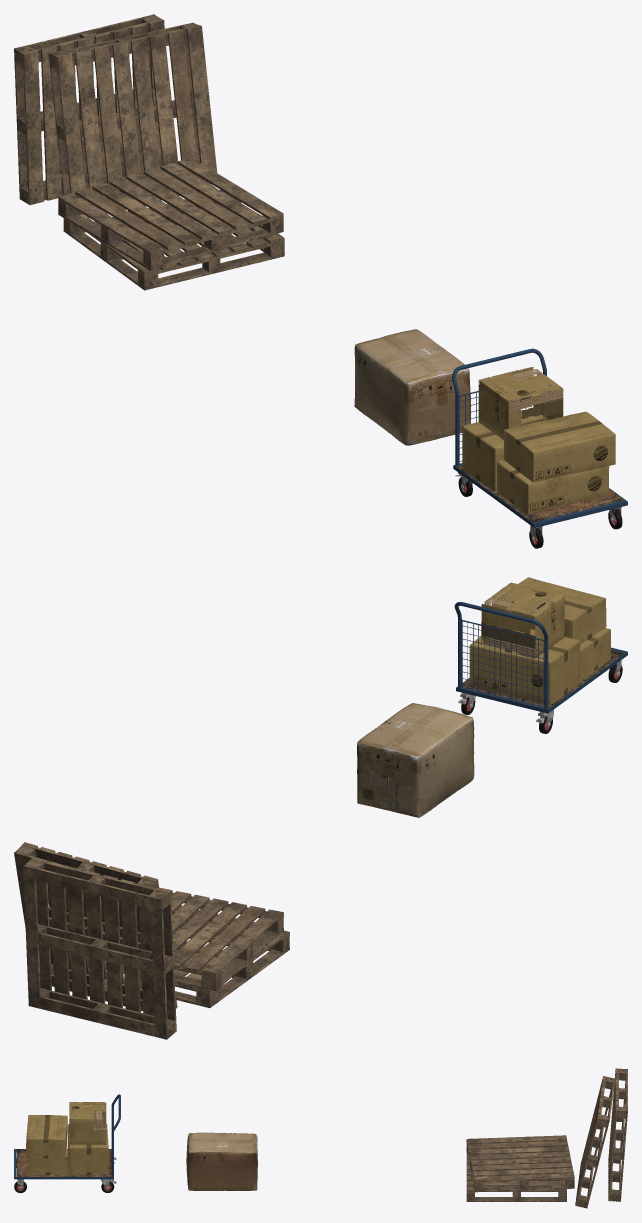
File: sklad.fbx
3 views of the same model, one above another, from view 1: azimuth 30°, elevation 25°; view 2: azimuth 150°, elevation 25°; view 3: azimuth 270°, elevation 25° (orthographic). The views are drawn at different scales.
Parts seen in each view (by area): view 1: WoodenPallet01.006, WoodenPallet01.004, Cardboard box, WoodenPallet01.005, Box_4, WoodenPallet01.007, Box_3, Tool_cart, Box_1, Box_2; view 2: WoodenPallet01.005, Cardboard box, WoodenPallet01.004, Tool_cart, Box_2, Box_3, WoodenPallet01.006, WoodenPallet01.007, Box_4, Box_1; view 3: WoodenPallet01.004, Cardboard box, WoodenPallet01.006, WoodenPallet01.005, Box_4, Tool_cart, Box_3, WoodenPallet01.007, Box_2, Box_1.
Boxes of the visible parts, left/top/right/bottom form: WoodenPallet01.006: left=48, top=22, right=217, bottom=203; WoodenPallet01.004: left=58, top=157, right=283, bottom=270; Cardboard box: left=354, top=329, right=470, bottom=445; WoodenPallet01.005: left=14, top=14, right=164, bottom=204; Box_4: left=503, top=411, right=615, bottom=482; WoodenPallet01.007: left=63, top=179, right=284, bottom=290; Box_3: left=478, top=367, right=563, bottom=440; Tool_cart: left=452, top=348, right=627, bottom=548; Box_1: left=497, top=460, right=609, bottom=514; Box_2: left=462, top=409, right=548, bottom=491; WoodenPallet01.005: left=23, top=857, right=176, bottom=1039; Cardboard box: left=357, top=703, right=474, bottom=817; WoodenPallet01.004: left=88, top=887, right=283, bottom=990; Tool_cart: left=454, top=602, right=627, bottom=733; Box_2: left=469, top=629, right=580, bottom=704; Box_3: left=481, top=582, right=564, bottom=658; WoodenPallet01.006: left=14, top=842, right=177, bottom=1011; WoodenPallet01.007: left=123, top=905, right=289, bottom=1007; Box_4: left=512, top=577, right=606, bottom=644; Box_1: left=580, top=628, right=610, bottom=680; WoodenPallet01.004: left=466, top=1135, right=574, bottom=1192; Cardboard box: left=186, top=1132, right=257, bottom=1190; WoodenPallet01.006: left=575, top=1076, right=615, bottom=1208; WoodenPallet01.005: left=608, top=1068, right=627, bottom=1201; Box_4: left=26, top=1115, right=67, bottom=1158; Tool_cart: left=14, top=1094, right=120, bottom=1193; Box_3: left=69, top=1102, right=106, bottom=1144; WoodenPallet01.007: left=466, top=1152, right=566, bottom=1201; Box_2: left=68, top=1123, right=108, bottom=1174; Box_1: left=28, top=1138, right=67, bottom=1175.
Bounding box in the file's own units: 145 × 121 × 736.
